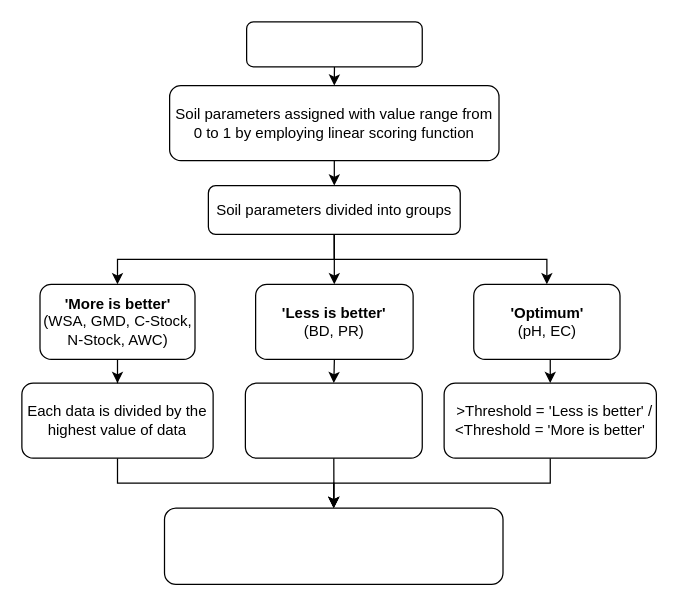
This 679x606 diagram has some shape labels left out. The shapes that lost their labels are listed below. From the top down, each one's centre as x and y in pixels, then its label:
At (333,44): "Collect soil parameters".
At (333,420): "Lowest value of data is divided by all data".
At (333,545): "Apply Formula: SCI = [(Weight1) * RDC] + [(Weight2 * WSC)] + [Weight3 * NSC]".
